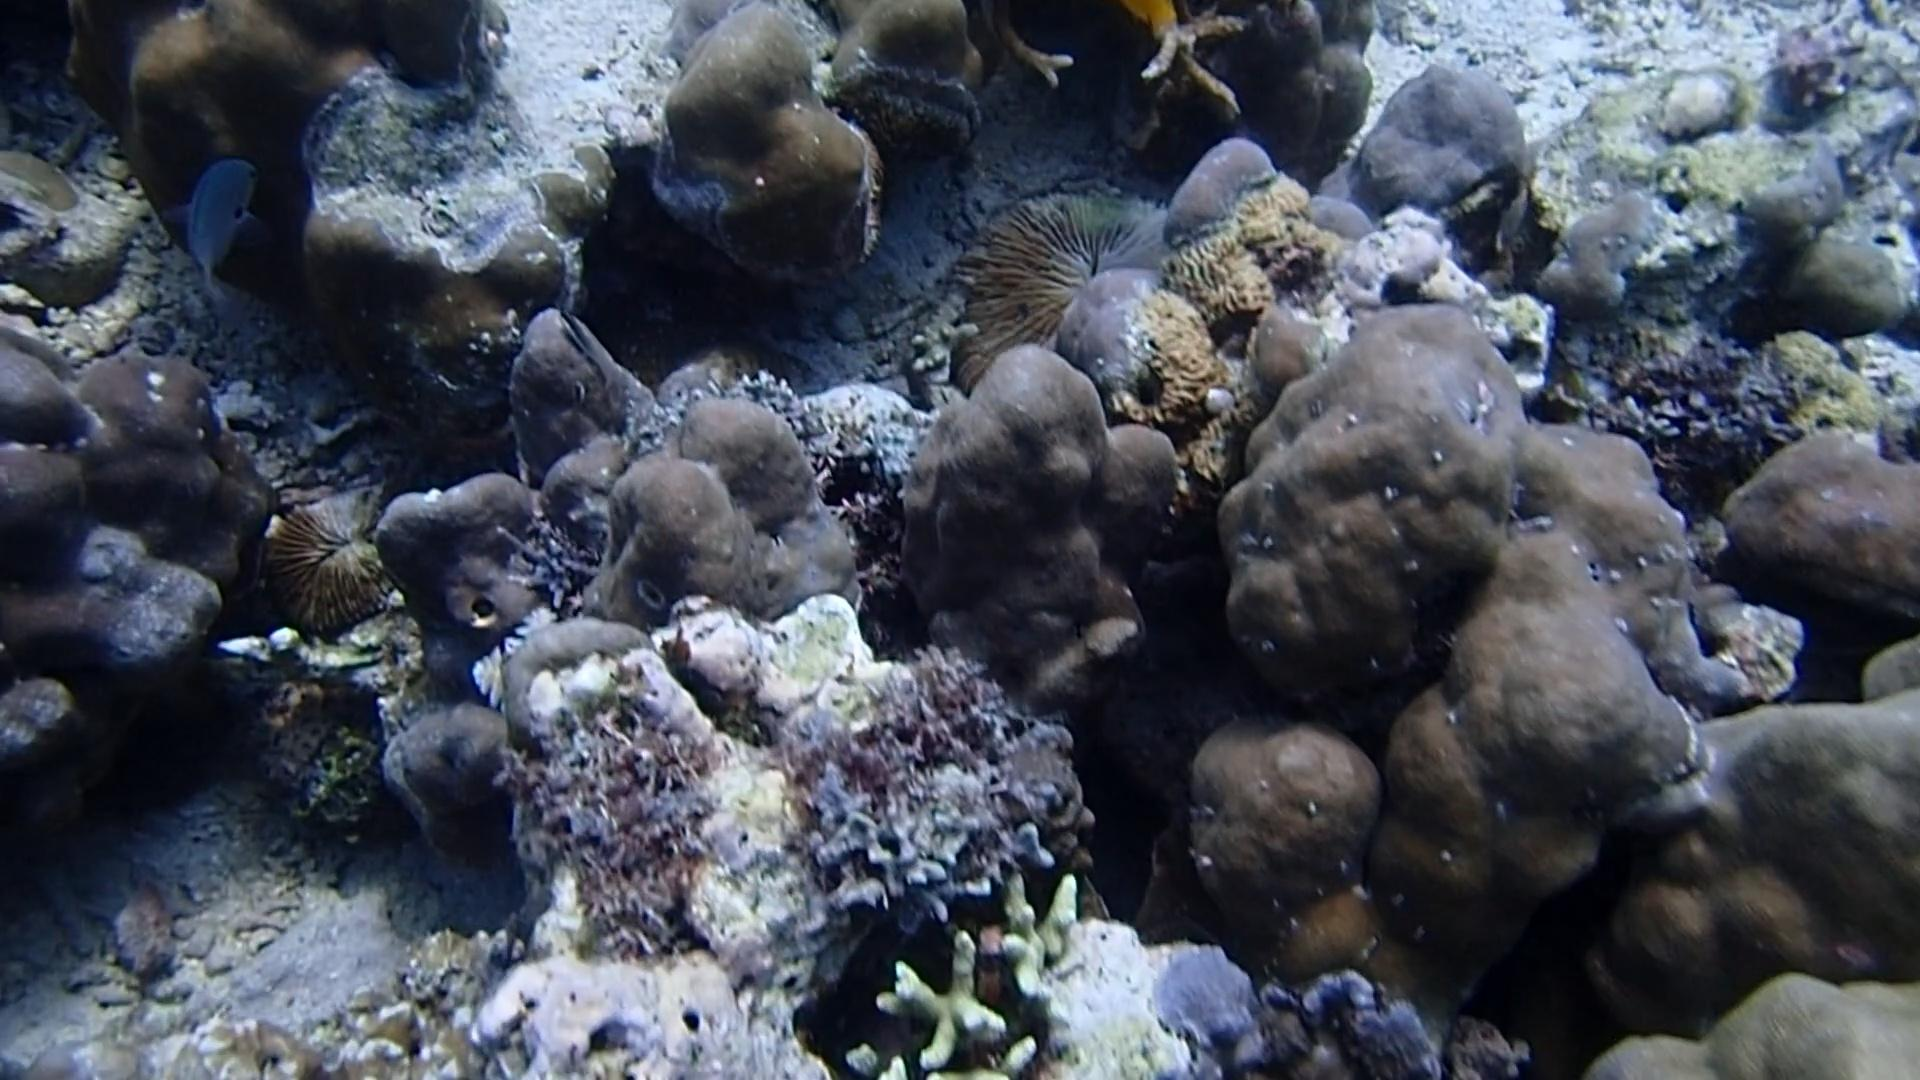Blue Fish Two: (148, 145, 270, 287)
Yellow Fish: (1116, 0, 1184, 45)
